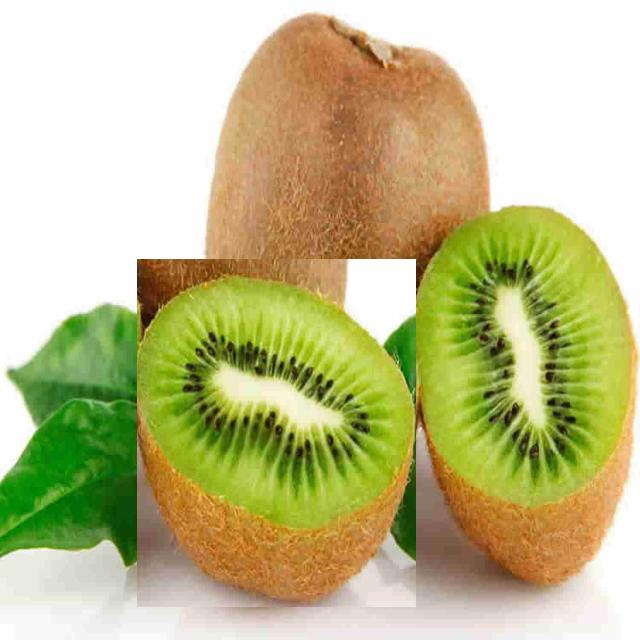Qiwi: (137, 259, 416, 607), (421, 202, 625, 603), (200, 18, 494, 293)
